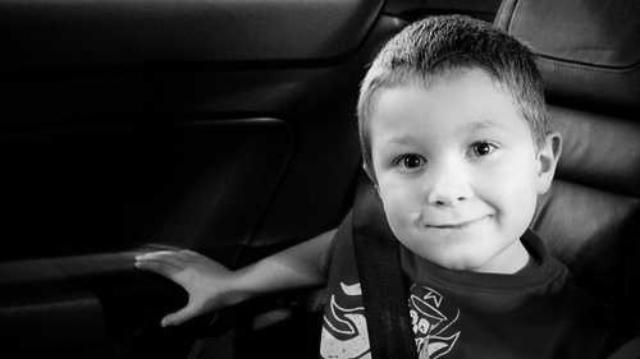SafeDriving: (381, 138, 442, 178), (456, 127, 511, 167)
Seatbelt: (350, 192, 424, 359)
